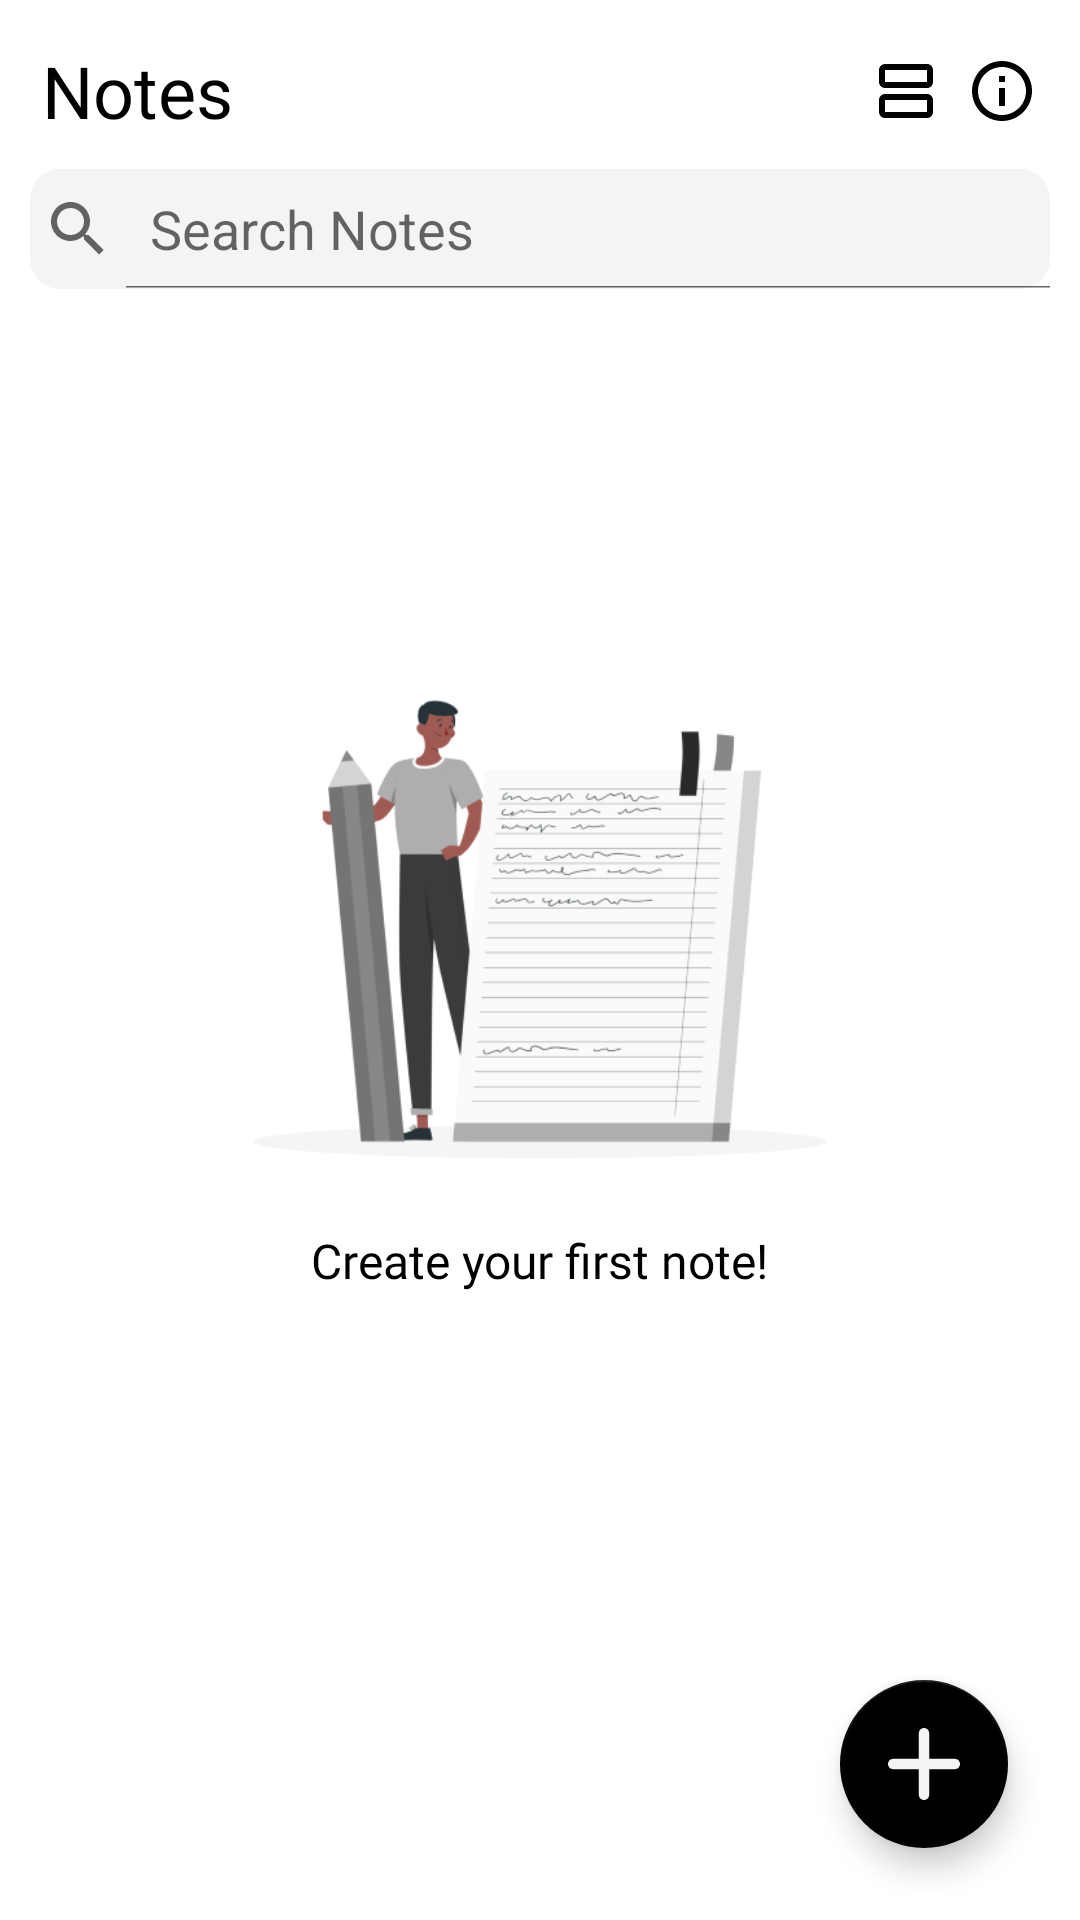

Named icons in this screenshot (1080px×1920px) and their centers, [x,y]:
info: [1002,91]
